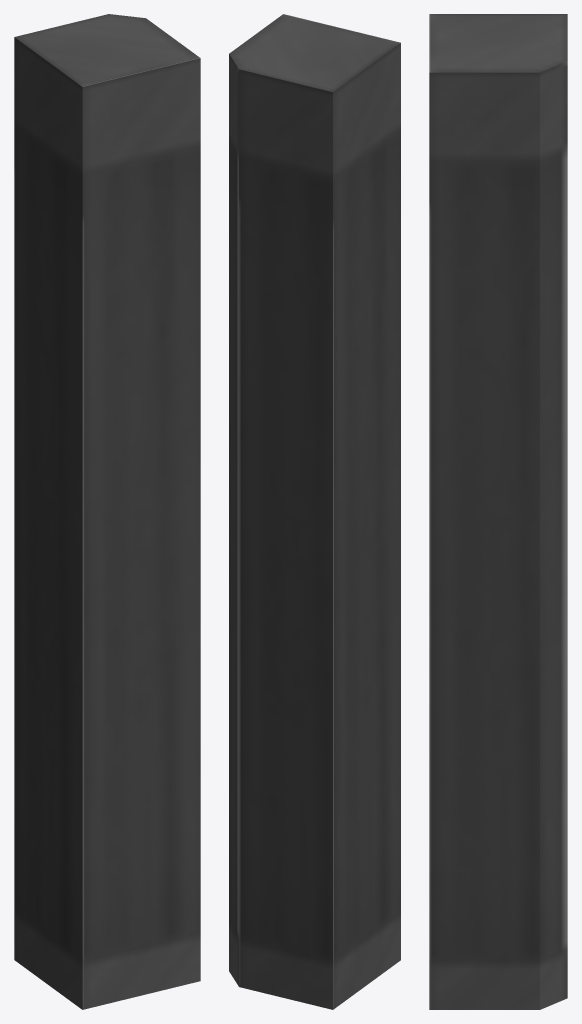
Rendered from RailPostCor.gltf.
3 views of the same model, side by side, from view 1: azimuth 30°, elevation 25°; view 2: azimuth 150°, elevation 25°; view 3: azimuth 270°, elevation 25° (orthographic). The views are drawn at different scales.
Visible parts, largest first — view 1: RailPostCorShape; view 2: RailPostCorShape; view 3: RailPostCorShape.
Part boxes in pixels (x1,y1,x2,y2): RailPostCorShape: (14,14,200,1009); RailPostCorShape: (229,14,400,1009); RailPostCorShape: (429,14,567,1009).
Size of the model in its own units: 0.157 by 1.17 by 0.157.
1 material, 1 textured.
